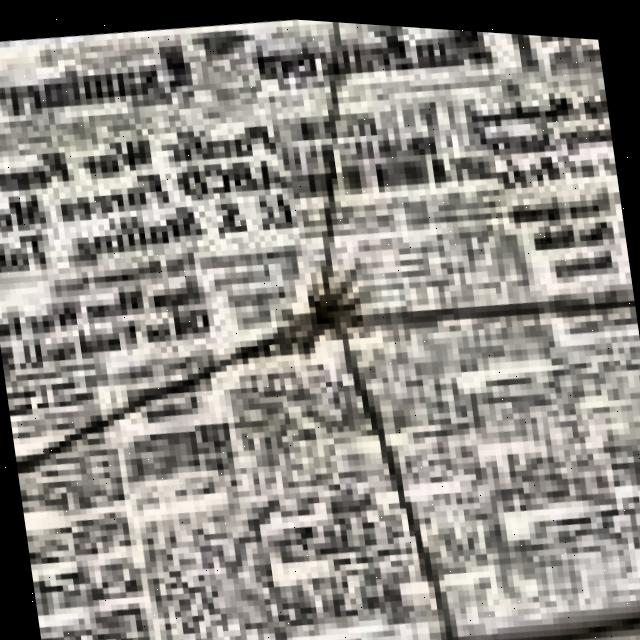paper: (0, 16, 640, 640)
